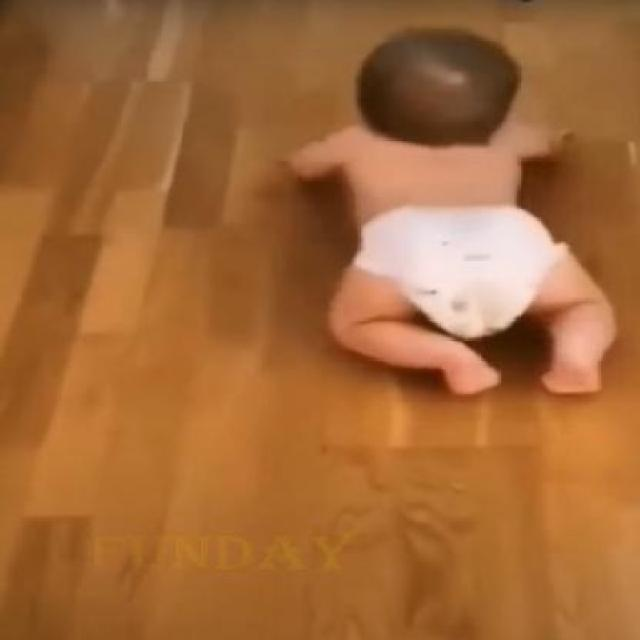baby: (284, 23, 618, 397)
